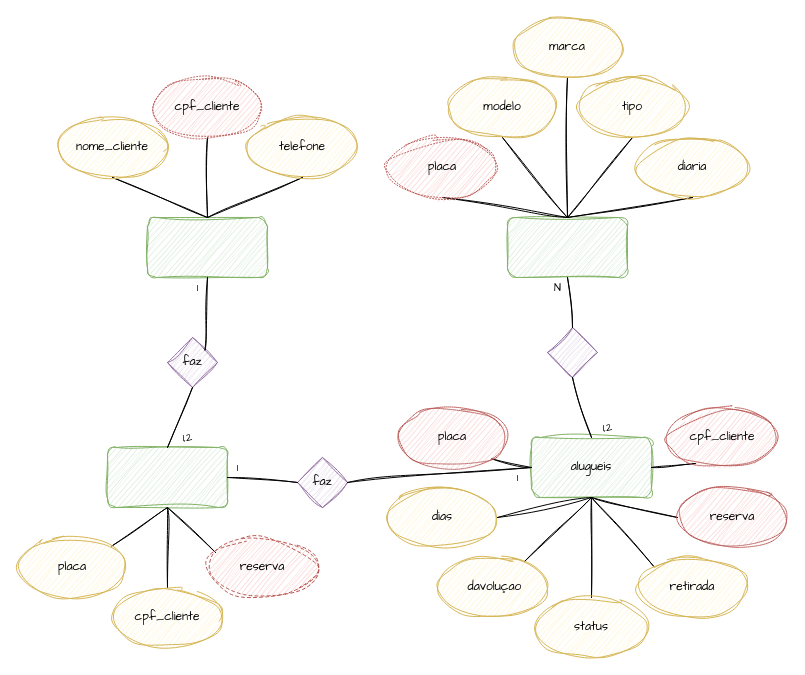
Image size: 805x675. Some labels were removed from this diagram. Here are the shapes that lost their labels. From the top down, the box of each, then its label:
(146, 216, 268, 278): clientes
(506, 216, 628, 278): carros
(546, 326, 598, 378): possui
(106, 446, 228, 508): reservas
